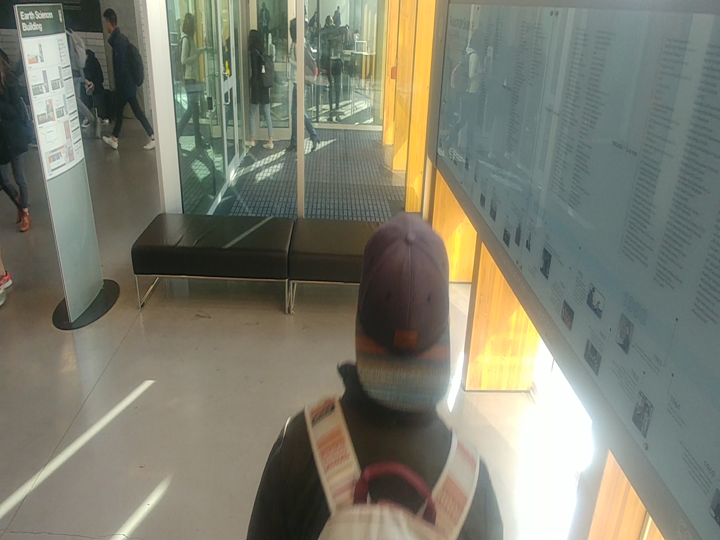face: (324, 194, 466, 426), (96, 5, 125, 41), (179, 11, 203, 45), (244, 24, 268, 58)
human: (244, 200, 509, 539), (97, 7, 155, 153), (170, 7, 216, 154), (244, 24, 278, 154), (319, 15, 349, 127)
